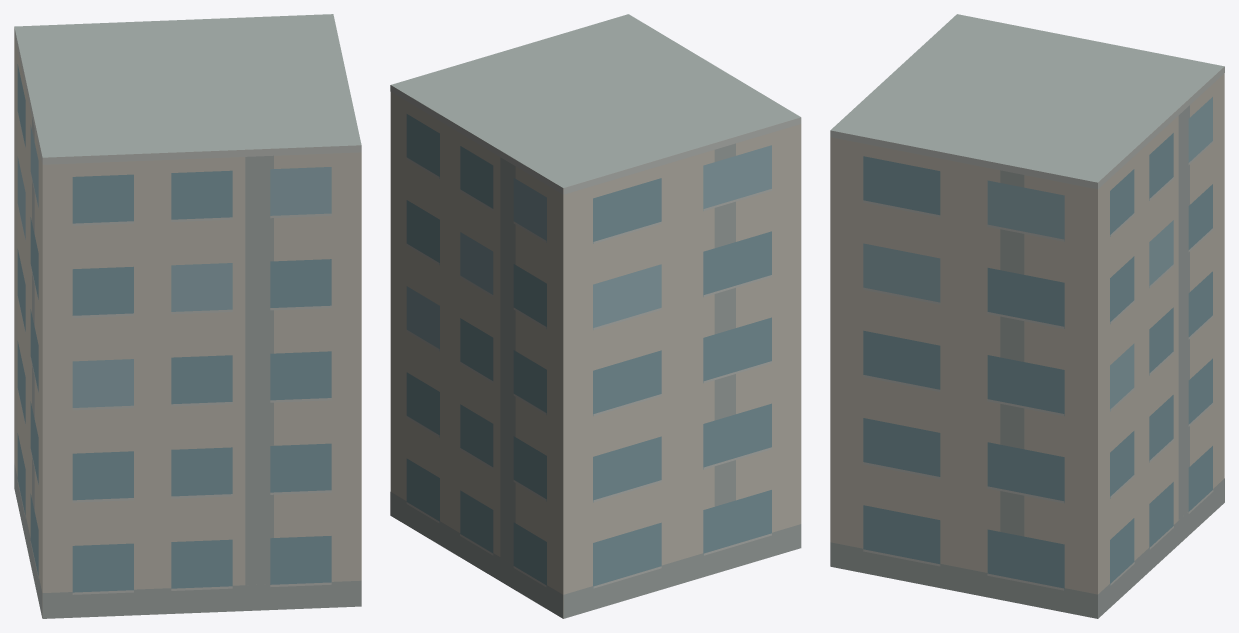
File: survey-upis-32976663.glb
3 renders of one model, left to right at view 1: azimuth 30°, elevation 25°; view 2: azimuth 150°, elevation 25°; view 3: azimuth 270°, elevation 25°, orthographic. The views are drawn at different scales.
Parts seen in each view (by area): view 1: survey-upis-32976663.tmp; view 2: survey-upis-32976663.tmp; view 3: survey-upis-32976663.tmp.
Part boxes in pixels (x1,y1,x2,y2): survey-upis-32976663.tmp: (14, 14, 361, 618); survey-upis-32976663.tmp: (390, 14, 801, 618); survey-upis-32976663.tmp: (830, 14, 1224, 618).
Size of the model in its own units: 13.11 by 15.8 by 12.96.
